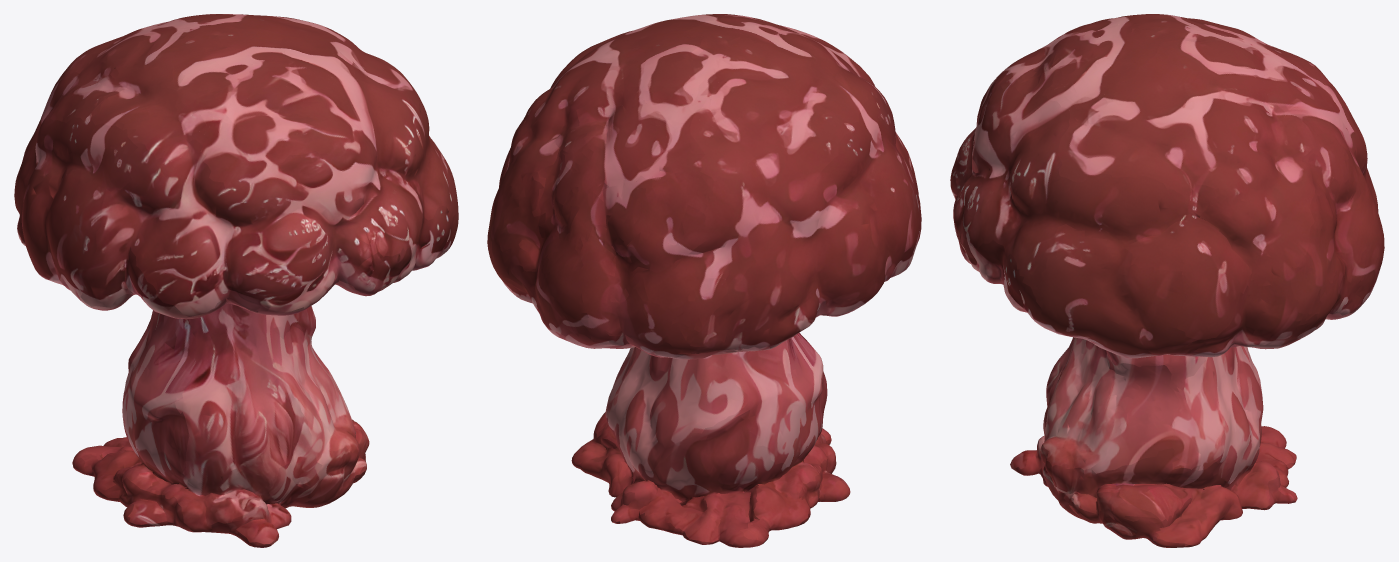
The model's file is MeatMushroom.fbx.
3 renders of one model, left to right at view 1: azimuth 30°, elevation 25°; view 2: azimuth 150°, elevation 25°; view 3: azimuth 270°, elevation 25°, orthographic.
Parts seen in each view (by area): view 1: textured_mesh; view 2: textured_mesh; view 3: textured_mesh.
Part boxes in pixels (box(x1,y1,x2,y2)): textured_mesh: box(14, 14, 458, 547); textured_mesh: box(487, 14, 921, 547); textured_mesh: box(950, 14, 1384, 547).
Bounding box in the file's own units: 1.75 × 1.99 × 1.73.
